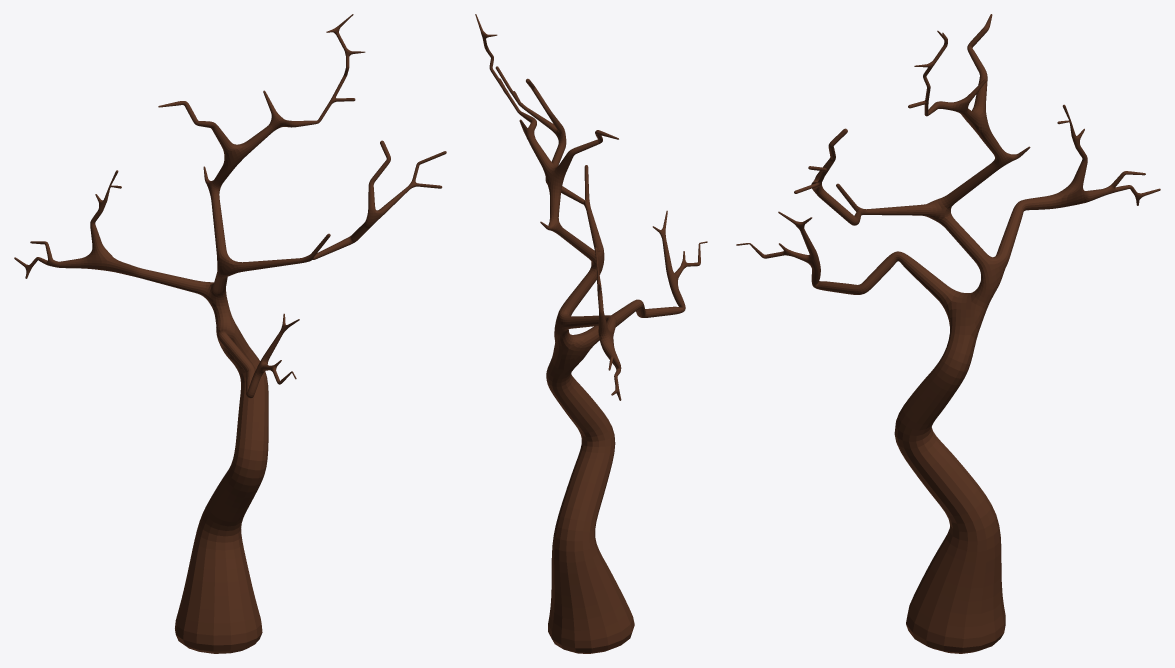
Rendered from arbolSeco2.fbx.
The picture shows the model from 3 angles, left to right: view 1: azimuth 30°, elevation 25°; view 2: azimuth 150°, elevation 25°; view 3: azimuth 270°, elevation 25°; orthographic projection. The views are drawn at different scales.
Visible parts, largest first — view 1: Cube.2126; view 2: Cube.2126; view 3: Cube.2126.
Part boxes in pixels (box(x1,y1,x2,y2)): Cube.2126: box(14, 14, 446, 653); Cube.2126: box(475, 14, 707, 653); Cube.2126: box(736, 14, 1160, 653).
Size of the model in its own units: 1621 by 3405 by 1929.
